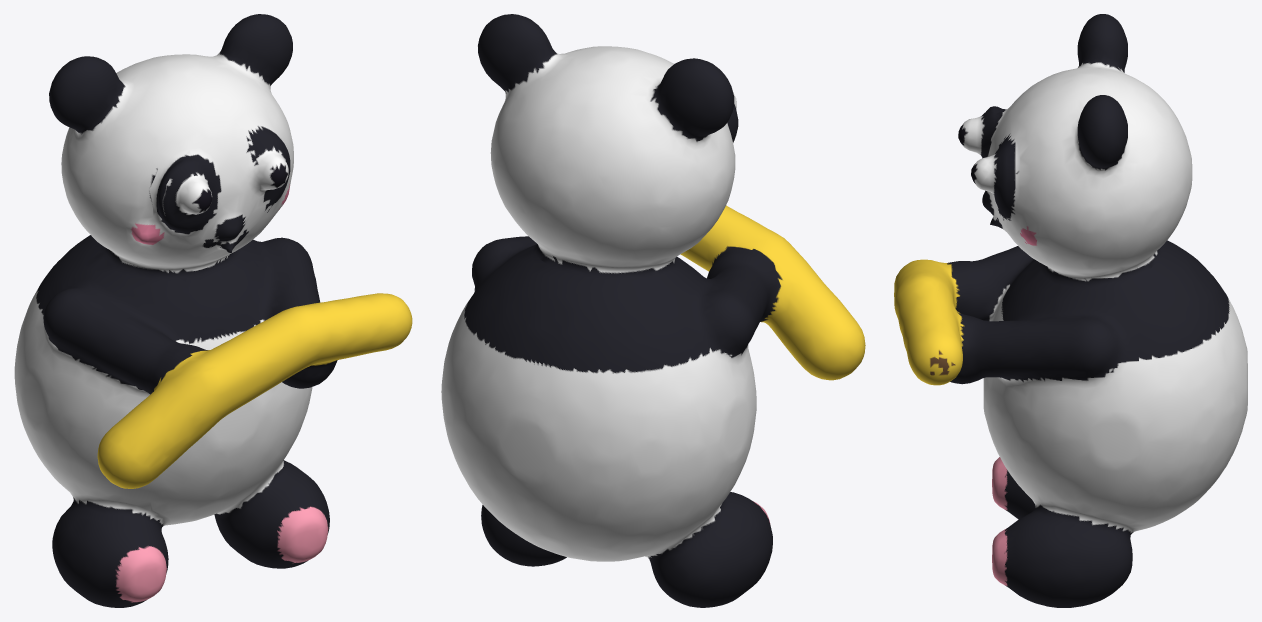
The model's file is SM_Pandaccini_Bananini.fbx.
3 renders of one model, left to right at view 1: azimuth 30°, elevation 25°; view 2: azimuth 150°, elevation 25°; view 3: azimuth 270°, elevation 25°, orthographic. The views are drawn at different scales.
Visible parts, largest first — view 1: Pandaccini_Bananini; view 2: Pandaccini_Bananini; view 3: Pandaccini_Bananini.
Boxes of the visible parts, x1,y1,x2,y2 form: Pandaccini_Bananini: [14, 14, 412, 607]; Pandaccini_Bananini: [441, 14, 865, 607]; Pandaccini_Bananini: [894, 14, 1247, 607].
Size of the model in its own units: 0.7987 by 1.32 by 0.8298.
1 material, 1 textured.
